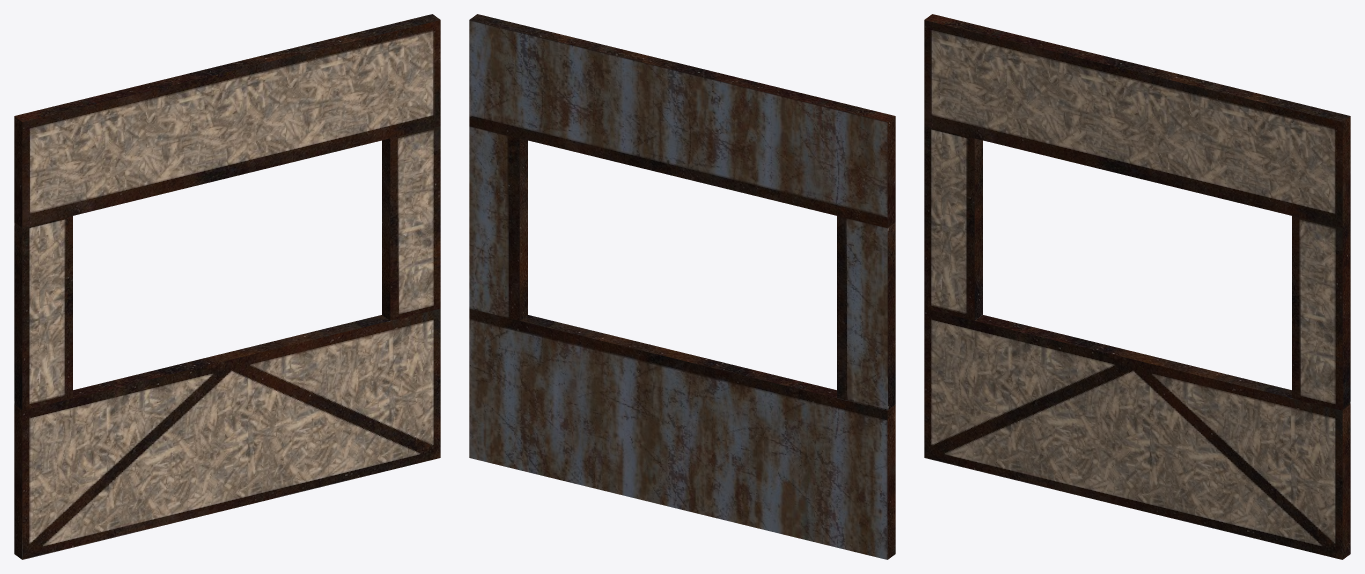
The model's file is metal_window_textured.glb.
3 views of the same model, side by side, from view 1: azimuth 30°, elevation 25°; view 2: azimuth 150°, elevation 25°; view 3: azimuth 330°, elevation 25° (orthographic).
Parts seen in each view (by area): view 1: Cube.001; view 2: Cube.001; view 3: Cube.001.
Boxes of the visible parts, x1=… form: Cube.001: x1=14, y1=14, x2=440, y2=559; Cube.001: x1=469, y1=14, x2=895, y2=559; Cube.001: x1=924, y1=14, x2=1350, y2=559.
Size of the model in its own units: 2 by 2 by 0.0681.
1 material, 1 textured.
